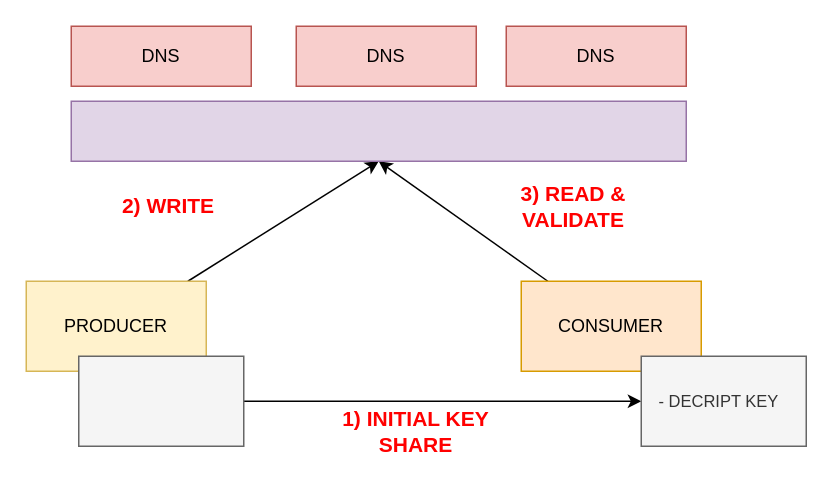
This 833x483 diagram has some shape labels left out. The shapes that lost their labels are listed below. From the top down, each one's centre as x and y in pixels, then its label:
At pixel 378 130: "DNS SERVICE".
At pixel 160 400: "- ENCRYPT KEY - DECRIPT KEY".
